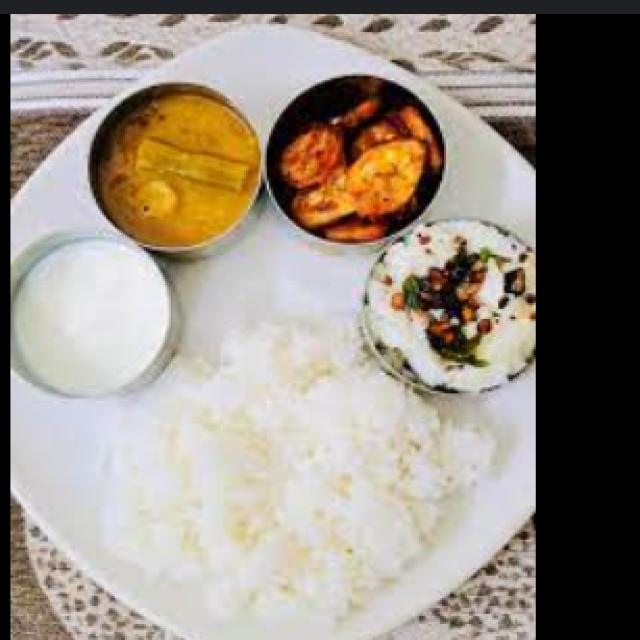sambar: (88, 105, 255, 244)
